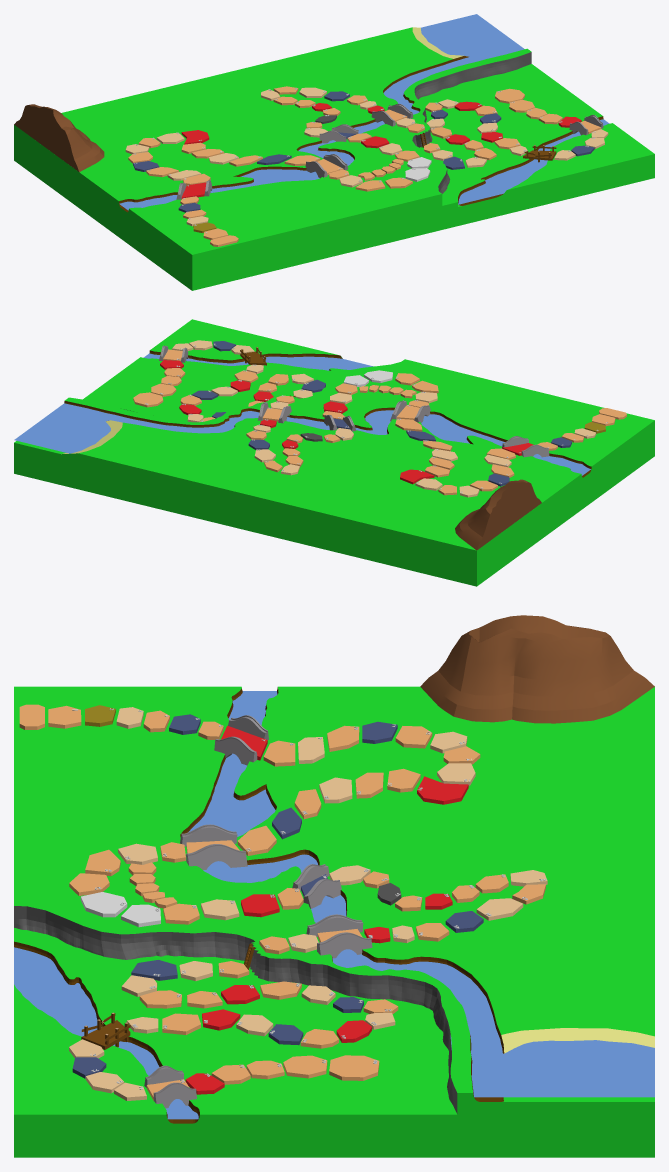
File: MapaV2.glb
3 views of the same model, one above another, from view 1: azimuth 30°, elevation 25°; view 2: azimuth 150°, elevation 25°; view 3: azimuth 270°, elevation 25° (orthographic). The views are drawn at different scales.
Visible parts, largest first — view 1: TableroBase, Casillas, AguaArriba, Montaña1, BordeAcantilado, AguaAbajo, BordesRios.001, BordesRios, TextoCasillas; view 2: TableroBase, Casillas, AguaArriba, Montaña1, BordesRios.001, AguaAbajo, BordesRios, TextoCasillas; view 3: TableroBase, Casillas, AguaArriba, Montaña1, BordeAcantilado, AguaAbajo, BordesRios.001, BordePlaya, TextoCasillas, BordesRios, Puente2P1, Puente4P2 (+2 smaller).
Boxes of the visible parts, <box> form: TableroBase: <box>14,27,654,290</box>; Casillas: <box>125,86,608,246</box>; AguaArriba: <box>119,14,524,210</box>; Montaña1: <box>14,104,104,172</box>; BordeAcantilado: <box>412,52,531,193</box>; AguaAbajo: <box>458,119,609,204</box>; BordesRios.001: <box>119,56,468,212</box>; BordesRios: <box>458,116,603,205</box>; TextoCasillas: <box>133,88,595,233</box>; TableroBase: <box>14,319,654,586</box>; Casillas: <box>133,340,626,497</box>; AguaArriba: <box>14,403,590,475</box>; Montaña1: <box>455,479,541,550</box>; BordesRios.001: <box>64,401,591,477</box>; AguaAbajo: <box>143,353,373,370</box>; BordesRios: <box>149,350,342,370</box>; TextoCasillas: <box>145,343,607,493</box>; TableroBase: <box>14,686,654,1157</box>; Casillas: <box>19,704,547,1100</box>; AguaArriba: <box>188,691,654,1097</box>; Montaña1: <box>420,615,654,723</box>; BordeAcantilado: <box>14,906,457,1113</box>; AguaAbajo: <box>14,947,451,1119</box>; BordesRios.001: <box>180,687,504,1101</box>; BordePlaya: <box>501,1028,654,1053</box>; TextoCasillas: <box>72,708,546,1089</box>; BordesRios: <box>14,941,199,1123</box>; Puente2P1: <box>186,844,247,869</box>; Puente4P2: <box>317,932,372,958</box>.
Bounding box in the file's own units: 72.28 × 11.43 × 48.01.
